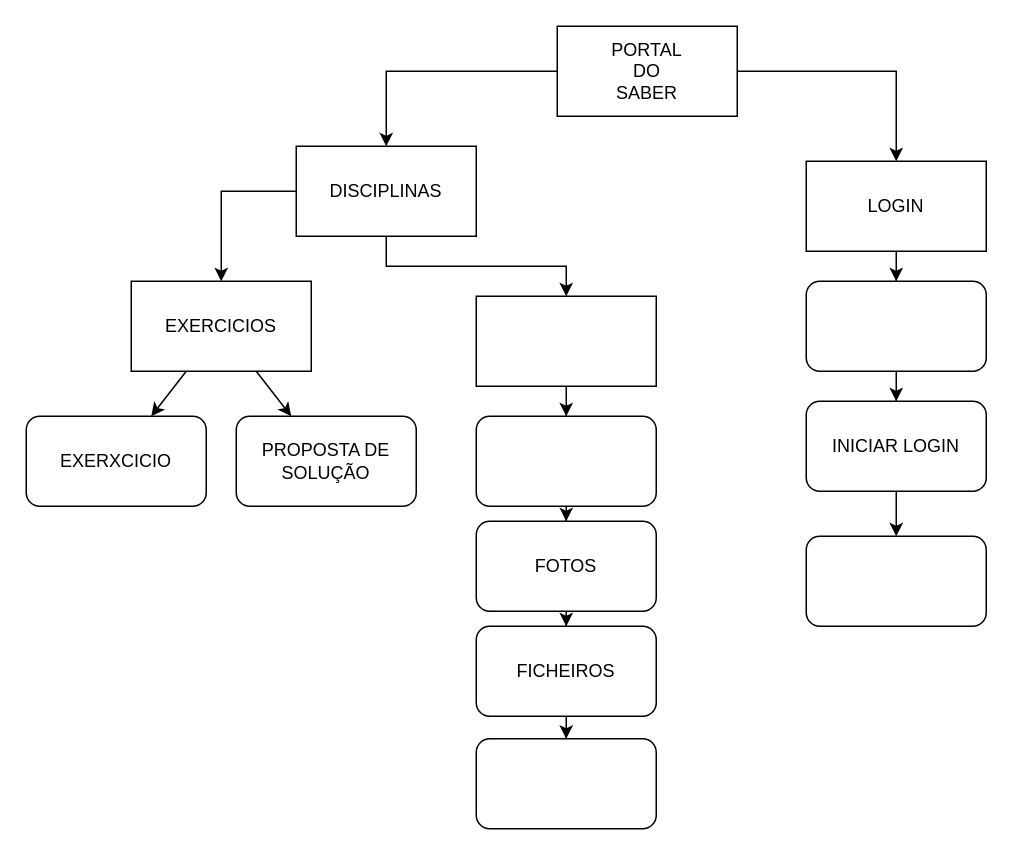
Some shapes in this 1013 by 855 pixel diagram are drawn without their labels. The shapes that lost their labels are listed below. From the top down, each one's box as (x1, y1, x2, y2) in pixels, then its label:
(475, 295, 656, 386): MATERIA
(805, 280, 986, 371): CRIAR CONTA
(475, 415, 656, 506): DOCUMENTOS
(805, 535, 986, 626): RECUPERAR CONTA
(475, 737, 656, 829): PROJETOS FEITOS
